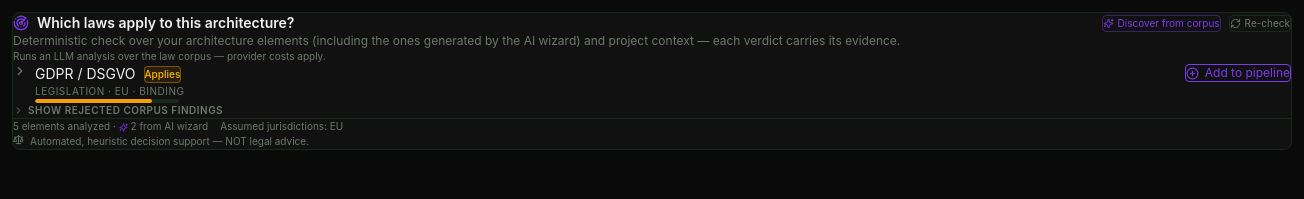
Test: ApplicabilityCheck — Discover from corpus (UC-LAW-002 Slice-2b) › show rejected toggle (AC-3) › lazily loads discoveryFindings and shows rejected entries when toggled
The width and height of the screenshot is (1304, 199).
Expected: the text "GDPR / DSGVO" is shown, [35,64,136,84]
Click the button "Show rejected corpus findings" at (118, 110), box [13,103,223,118]
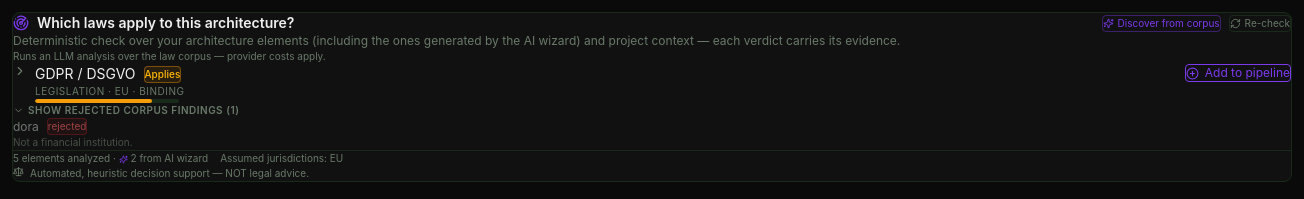
Expected: the text "dora" is shown, [13,118,39,134]
